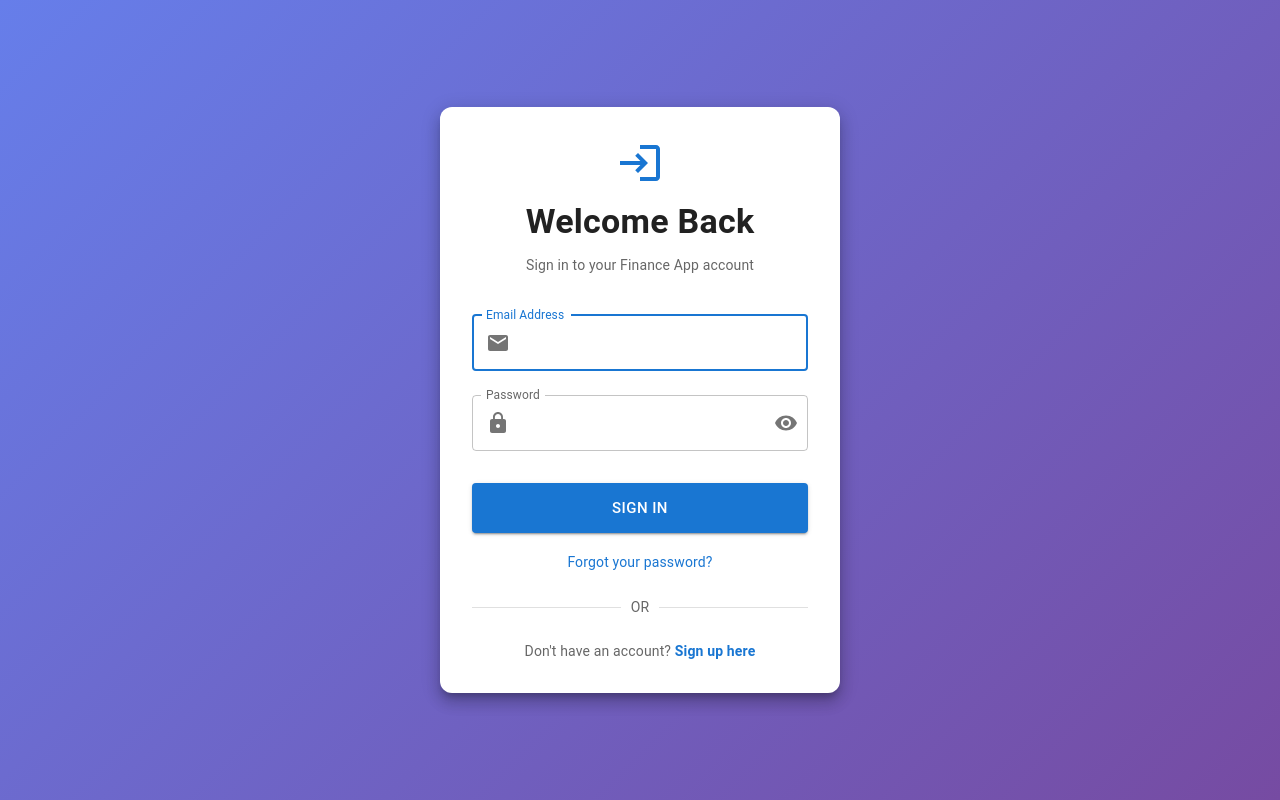
Login Component › Form Interactions › clears field errors when user starts typing
This screenshot has width=1280, height=800.
Note: Submit form to trigger validation
Click the button "Sign In". click: (640, 508)
box: [472,483,808,533]
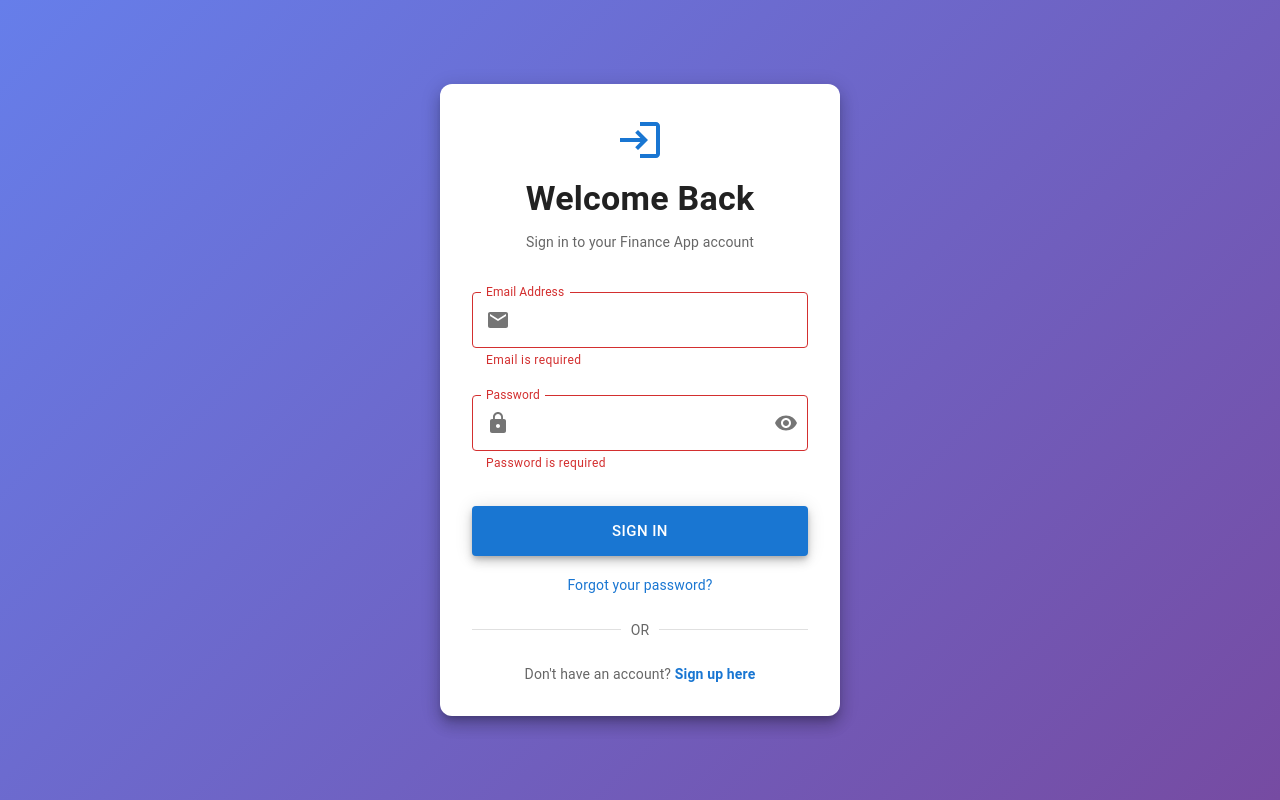
Expected: the text "Email is required" is shown, [486,353,581,367]
Note: Start typing in email field
Type "test" into the field labelled "Email Address". click: (663, 320)
box: [518,292,808,348]
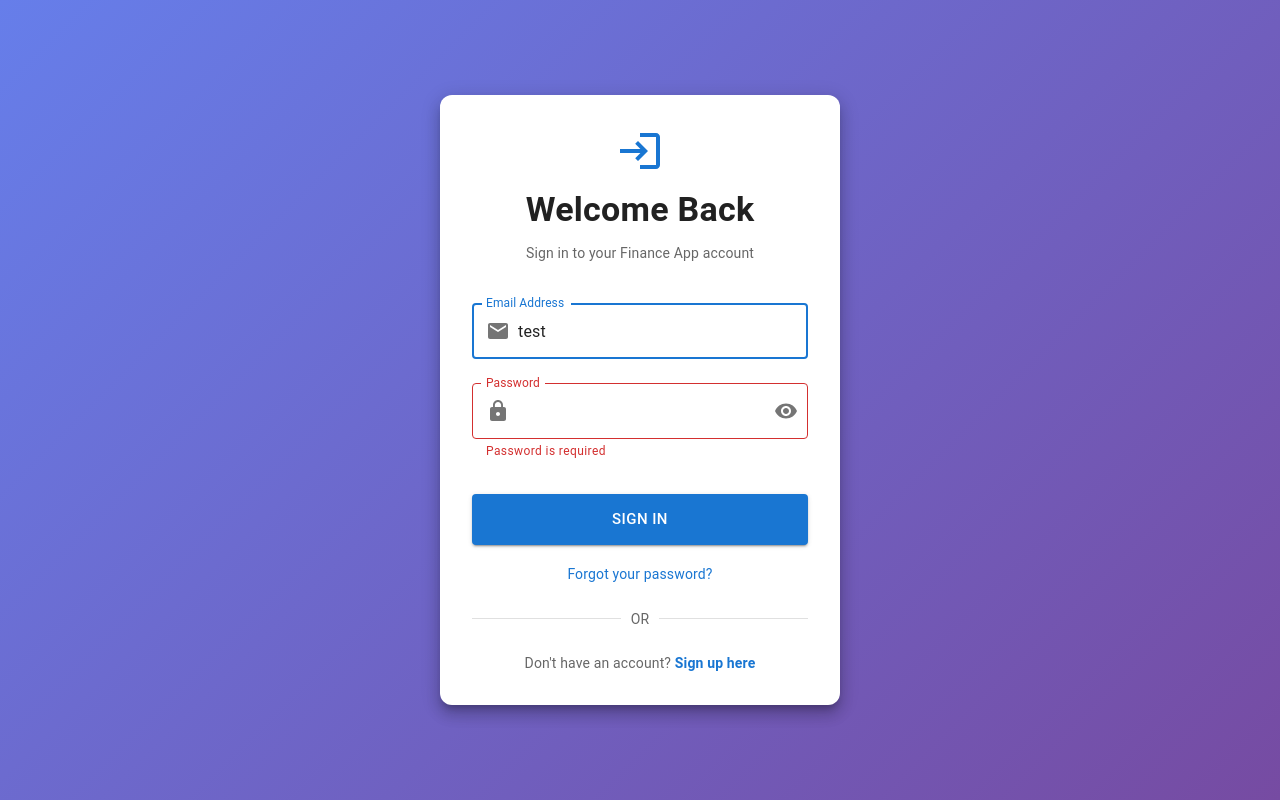
Expected: the text "Email is required" is gone
